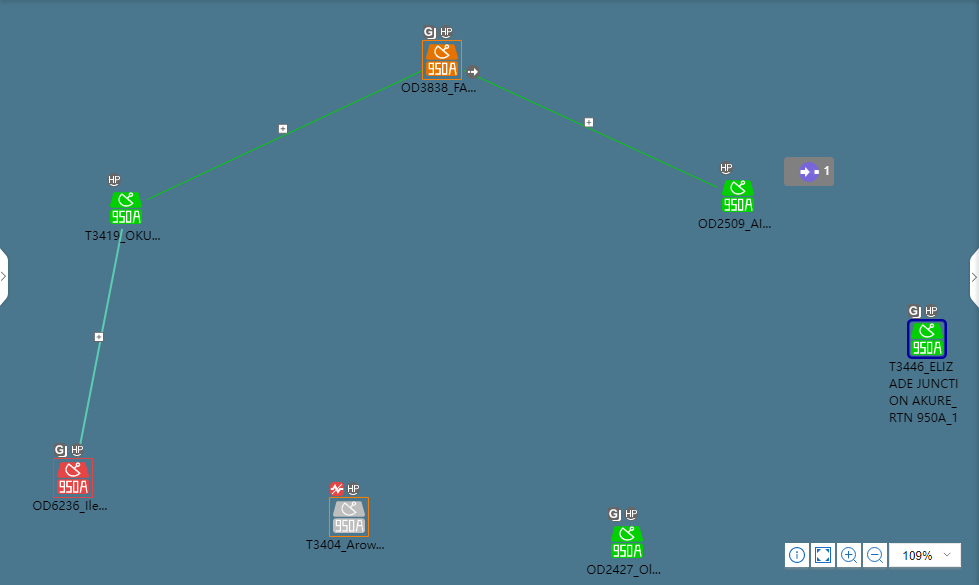Link_Blue: (76, 228, 122, 447)
Link_Green: (144, 69, 424, 201), (468, 69, 724, 188)
RTN_Gray: (333, 504, 369, 539)
RTN_Green: (107, 192, 142, 227), (609, 528, 644, 563), (909, 320, 944, 355), (725, 179, 753, 214)
RTN_Orange: (425, 45, 459, 80)
RTN_Red: (52, 461, 93, 494)
